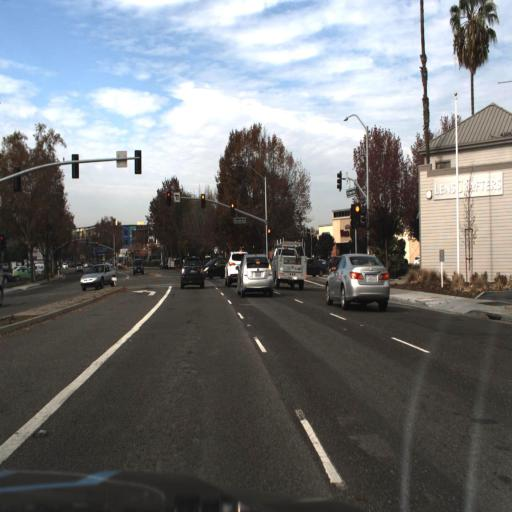car: (324, 251, 390, 311), (270, 234, 307, 288), (237, 252, 273, 300), (272, 241, 307, 287), (77, 261, 120, 294), (177, 253, 205, 289), (79, 264, 115, 291), (222, 248, 245, 288), (179, 257, 205, 290), (204, 250, 227, 280), (132, 255, 145, 276), (71, 259, 83, 280)
trafficLight: (266, 220, 273, 238)
trafficLight-Red: (348, 200, 362, 228), (351, 202, 362, 229), (199, 190, 208, 210), (229, 201, 237, 221), (199, 192, 206, 212), (229, 199, 235, 217)
trafficLight-RedLeft: (164, 189, 173, 210), (164, 186, 173, 204)
